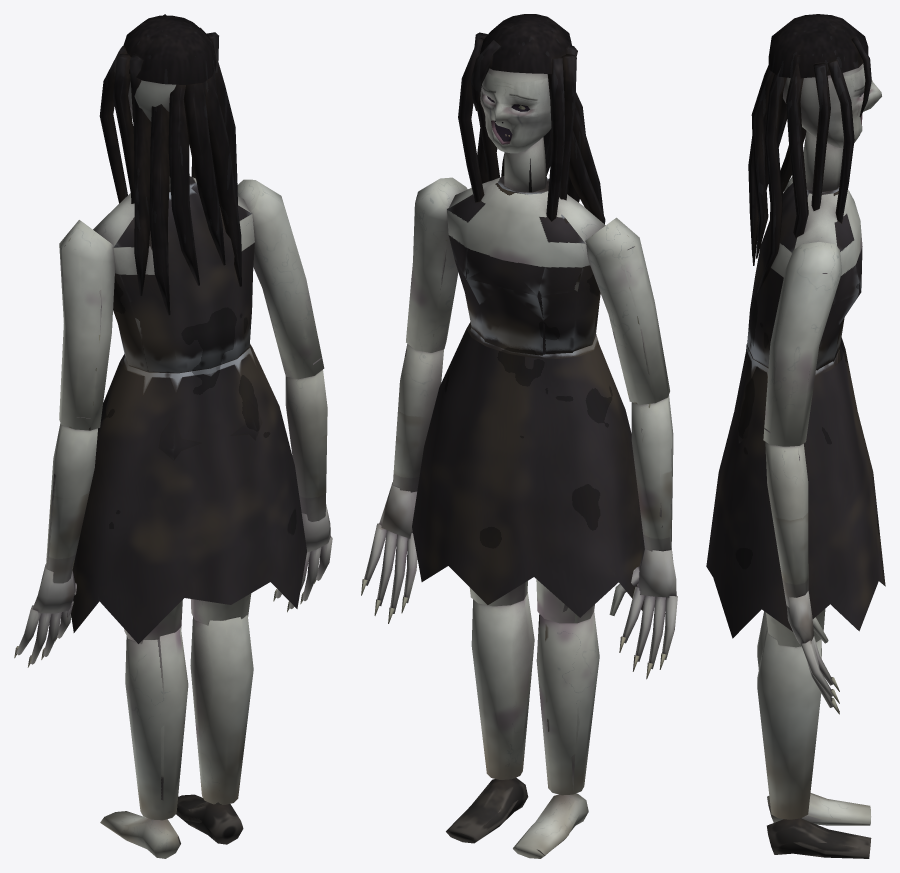
The model's file is LaLamentadora_Estatico.glb.
The picture shows the model from 3 angles, left to right: view 1: azimuth 30°, elevation 25°; view 2: azimuth 150°, elevation 25°; view 3: azimuth 270°, elevation 25°; orthographic projection.
Visible parts, largest first — view 1: LowerTorso, Head, UpperTorso, LeftUpperArm, RightLowerLeg, LeftLowerLeg, RightUpperArm, LeftLowerArm, RightLowerArm, LeftHand, LeftFoot, RightFoot (+3 smaller); view 2: LowerTorso, UpperTorso, Head, RightLowerLeg, LeftLowerLeg, LeftUpperArm, RightUpperArm, LeftLowerArm, RightLowerArm, LeftHand, RightHand, RightFoot (+2 smaller); view 3: LowerTorso, Head, UpperTorso, RightUpperArm, RightLowerLeg, RightLowerArm, RightFoot, RightHand, LeftFoot, RightUpperLeg.
Part boxes in pixels (x1,y1,x2,y2): LowerTorso: (71, 344, 306, 643); Head: (99, 14, 241, 315); UpperTorso: (93, 176, 254, 373); LeftUpperArm: (59, 220, 115, 430); RightLowerLeg: (190, 615, 253, 804); LeftLowerLeg: (125, 627, 188, 820); RightUpperArm: (237, 179, 324, 379); LeftLowerArm: (46, 417, 97, 583); RightLowerArm: (285, 357, 327, 521); LeftHand: (14, 564, 76, 667); LeftFoot: (100, 811, 180, 858); RightFoot: (176, 794, 243, 844); LowerTorso: (412, 322, 644, 617); UpperTorso: (447, 137, 605, 355); Head: (458, 14, 605, 224); RightLowerLeg: (471, 592, 534, 779); LeftLowerLeg: (536, 611, 599, 795); LeftUpperArm: (585, 217, 669, 404); RightUpperArm: (406, 177, 467, 352); LeftLowerArm: (631, 395, 673, 551); RightLowerArm: (393, 344, 443, 492); LeftHand: (609, 548, 677, 679); RightHand: (361, 482, 417, 623); RightFoot: (446, 777, 528, 843); LowerTorso: (706, 337, 885, 638); Head: (748, 14, 881, 292); UpperTorso: (747, 130, 862, 370); RightUpperArm: (763, 242, 841, 446); RightLowerLeg: (757, 627, 821, 819); RightLowerArm: (764, 428, 808, 607); RightFoot: (767, 818, 871, 858); RightHand: (786, 591, 839, 714); LeftFoot: (767, 793, 871, 825); RightUpperLeg: (766, 609, 825, 647).
Bounding box in the file's own units: 3.99 × 10.2 × 2.03.
4 materials, 4 textured.
